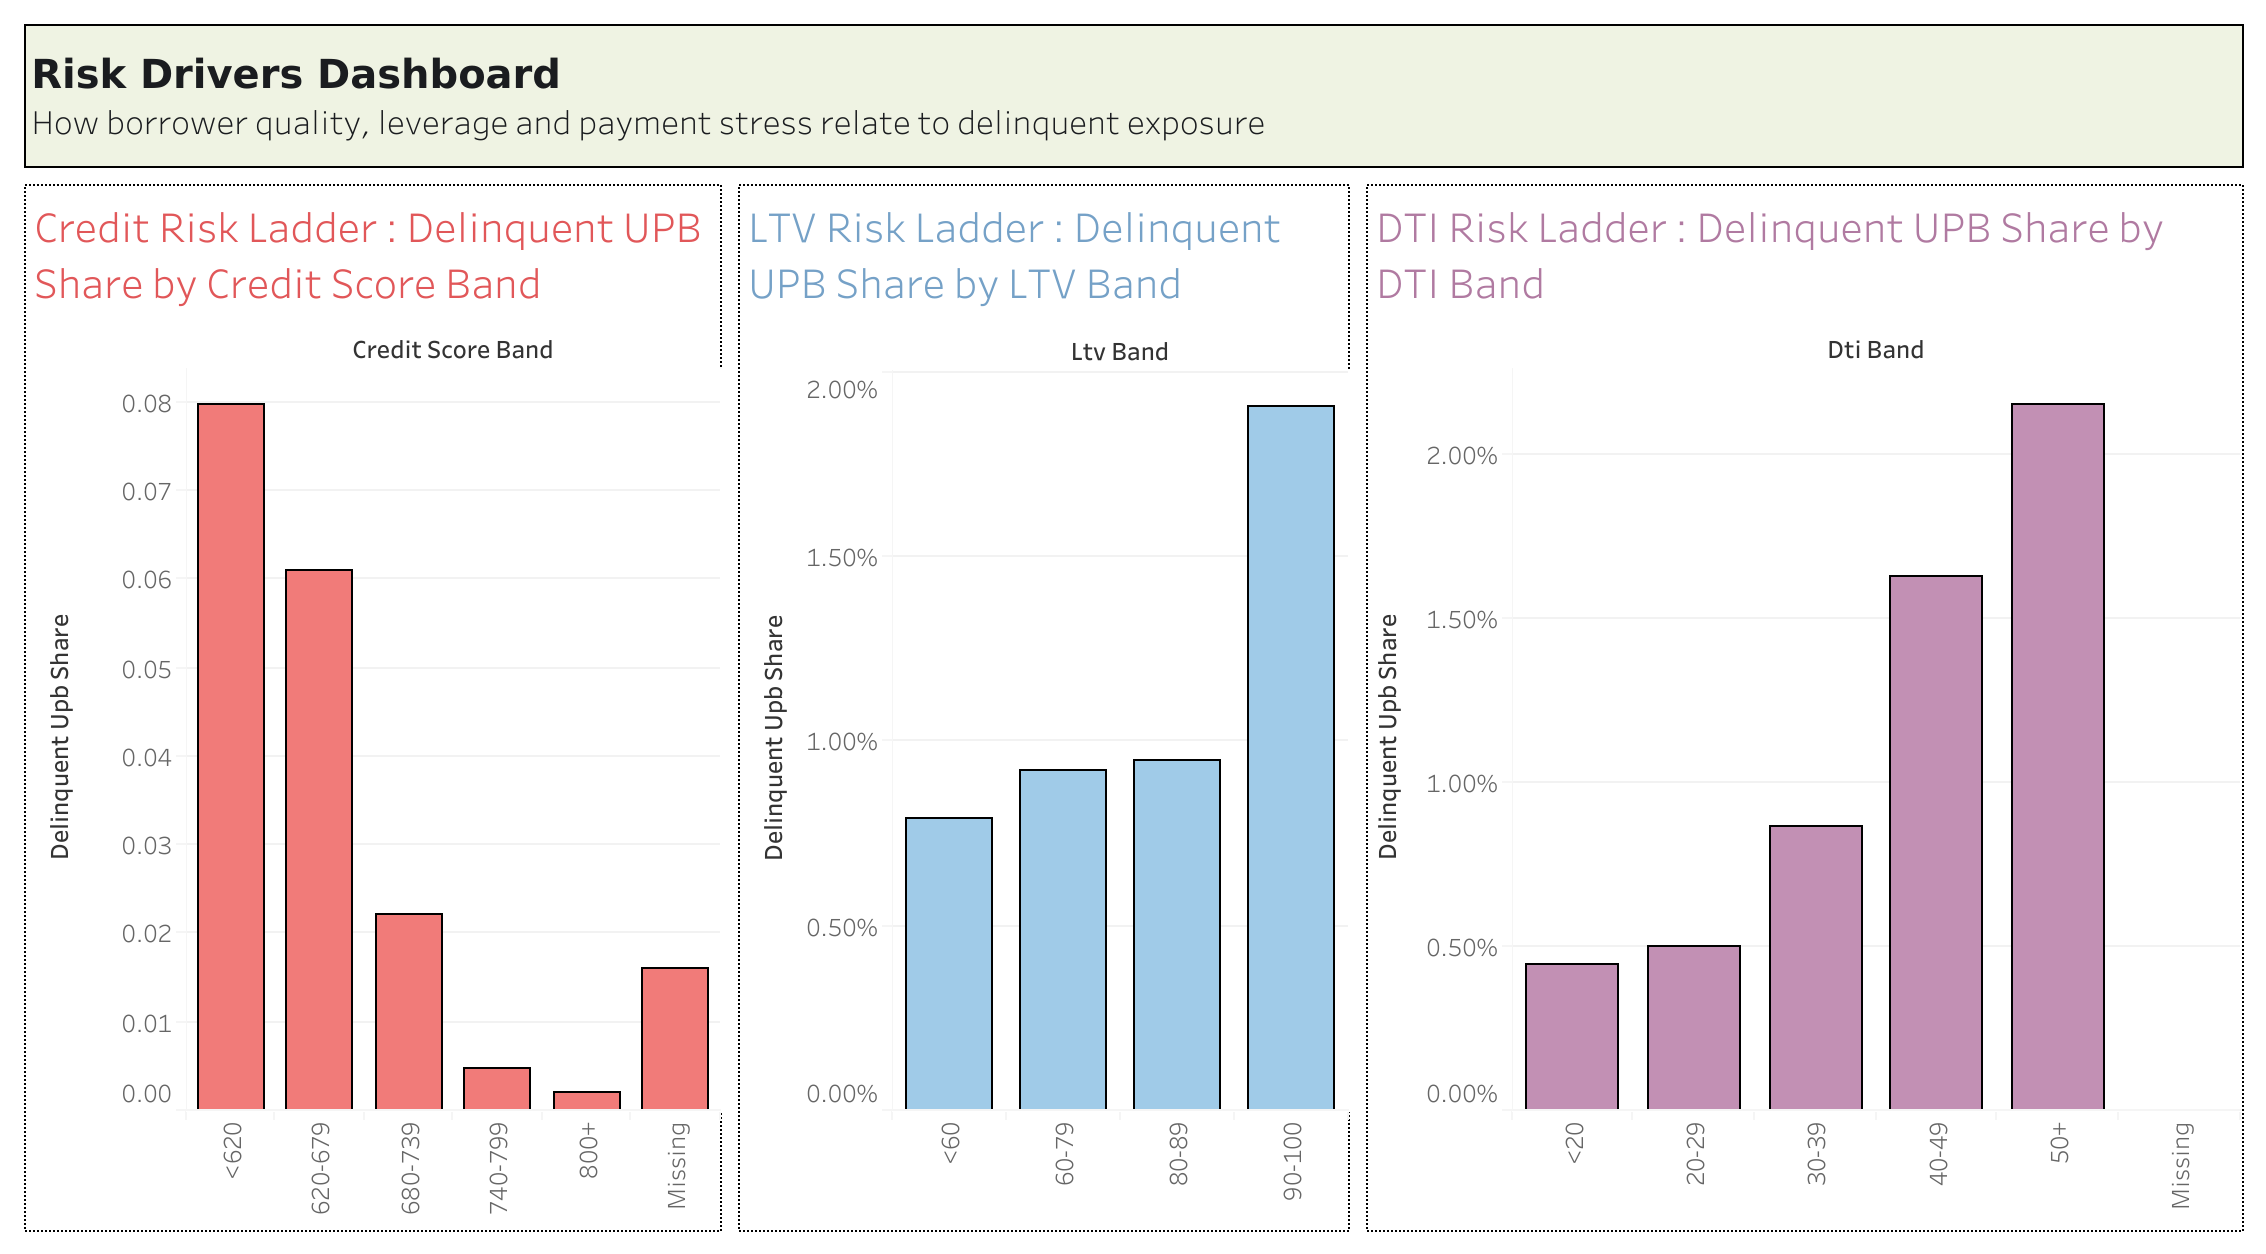

Layout of this report page (visuals, bound fields, positions):
{"tool":"tableau","page":{"name":"Risk Drivers Dashboard","canvas":[1000,1000],"units":"permille","ordinal":2},"visuals":[{"type":"text","box":[6.4,10.8,987.3,127.4]},{"type":"worksheet","title":"Credit Risk Ladder","mark":"Automatic","rows":["delinquent_upb_share"],"cols":["credit_score_band"],"box":[6.4,138.2,283.6,851]},{"type":"worksheet","title":"LTV Risk Ladder : Delinquent UPB Share by LTV Band","mark":"Automatic","rows":["delinquent_upb_share"],"cols":["ltv_band"],"box":[289.9,138.2,249.4,851]},{"type":"worksheet","title":"DTI Risk Ladder : Delinquent UPB Share by DTI Band","mark":"Automatic","rows":["delinquent_upb_share"],"cols":["dti_band"],"box":[539.3,138.2,454.3,851]}]}

Visuals, with their boxes on the dashboard's canvas, which has no fixed pixel size, in thousandths of its width and height (x1, y1, x2, y2). These are canvas units, not pixel positions in the 2266x1254 screenshot, which may show the page scaled, cropped or inside an application window:
text: l=6, t=11, r=994, b=138
"Credit Risk Ladder" worksheet: l=6, t=138, r=290, b=989
"LTV Risk Ladder : Delinquent UPB Share by LTV Band" worksheet: l=290, t=138, r=539, b=989
"DTI Risk Ladder : Delinquent UPB Share by DTI Band" worksheet: l=539, t=138, r=994, b=989
